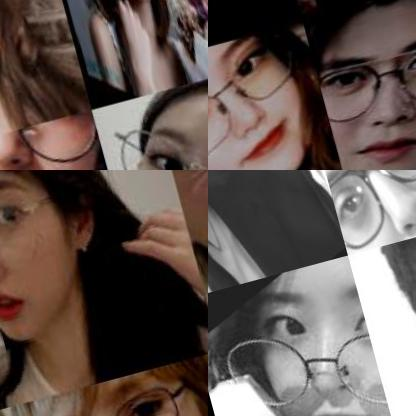Glasses: (208, 25, 320, 169), (14, 359, 207, 415), (0, 175, 81, 302), (318, 34, 415, 129), (96, 86, 207, 169), (0, 109, 104, 169)
glasses: (208, 255, 402, 415), (308, 170, 415, 255)
